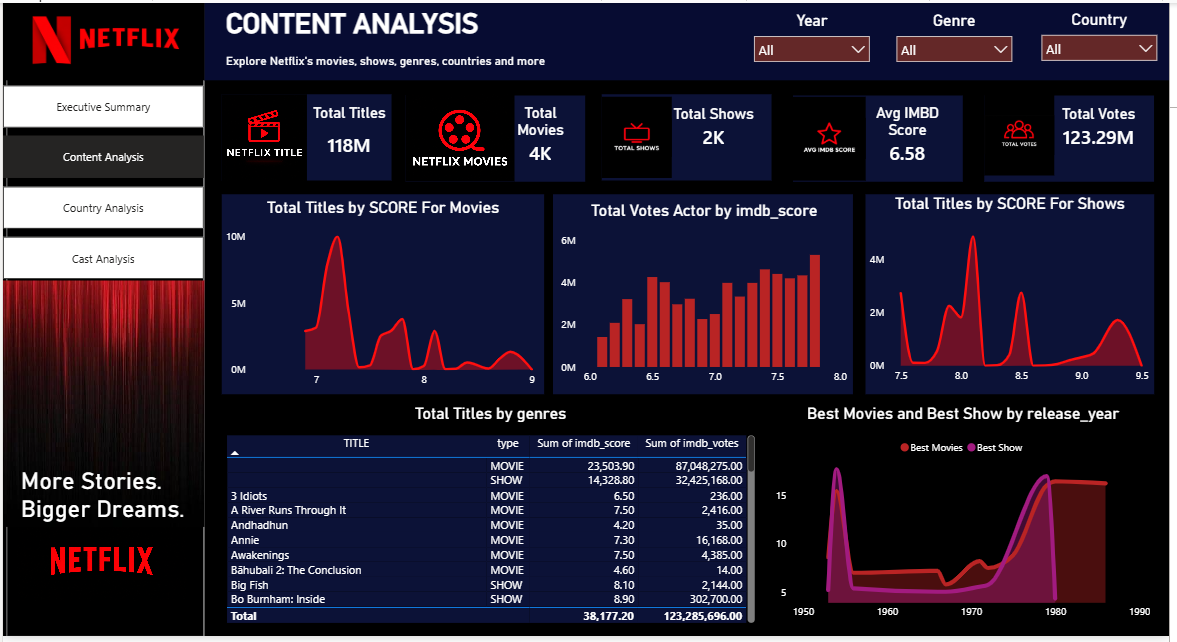

Layout of this report page (visuals, bound fields, positions):
{"tool":"powerbi","page":{"name":"Content Analysis","canvas":[1412,767],"ordinal":1},"visuals":[{"type":"shape","box":[4.5,0,239.2,767.5],"z":0},{"type":"shape","box":[243.7,0,1168.6,93.9],"z":1000},{"type":"textbox","box":[264.9,0,354.2,56],"z":2000},{"type":"textbox","box":[264.9,56,596.4,54.5],"z":3000},{"type":"pageNavigator","box":[0,93.9,243.7,242.2],"z":4000},{"type":"image","box":[0,0,243.7,93.9],"z":5000},{"type":"image","box":[16.7,634.3,205.9,89.3],"z":6000},{"type":"image","box":[0,336,243.7,298.2],"z":7000},{"type":"textbox","box":[16.7,557.1,216.5,210.4],"z":8000},{"type":"shape","box":[264.9,110.5,205.9,104.4],"z":9000},{"type":"shape","box":[725.1,110.5,205.9,104.4],"z":10000},{"type":"shape","box":[487.4,112,218,104.4],"z":11000},{"type":"shape","box":[956.7,112,205.9,104.4],"z":12000},{"type":"shape","box":[1188.3,112,205.9,104.4],"z":13000},{"type":"shape","box":[264.9,231.6,390.5,242.2],"z":14000},{"type":"shape","box":[666,231.6,363.3,242.2],"z":15000},{"type":"shape","box":[1044.5,231.6,349.7,242.2],"z":16000},{"type":"cardVisual","title":"Total Titles","fields":{"Data":["Best Movie by Year Netflix.Total Titles"]},"box":[367.8,122.6,102.9,78.7],"z":17000},{"type":"image","box":[264.9,110.5,102.9,106],"z":18000},{"type":"cardVisual","title":"Total Movies","fields":{"Data":["Best Movie by Year Netflix.Total Movies"]},"box":[596.4,122.6,109,78.7],"z":19000},{"type":"cardVisual","title":"Total Shows","fields":{"Data":["Best Movie by Year Netflix.Total Shows"]},"box":[793.2,124.1,134.7,56],"z":20000},{"type":"cardVisual","title":"Avg IMBD Score","fields":{"Data":["Best Movie by Year Netflix.Average IMDb Score"]},"box":[1027.8,122.6,134.7,78.7],"z":21000},{"type":"cardVisual","title":"Total Votes","fields":{"Data":["Best Movie by Year Netflix.Total Votes"]},"box":[1259.4,124.1,134.7,56],"z":22000},{"type":"image","box":[487.4,110.5,131.7,106],"z":23000},{"type":"image","box":[725.1,113.5,84.8,98.4],"z":24000},{"type":"image","box":[956.7,113.5,87.8,101.4],"z":25000},{"type":"lineChart","title":"Total Titles by SCORE For Movies","fields":{"Category":["Best Movies Netflix.SCORE"],"Y":["Best Movie by Year Netflix.Total Titles"]},"box":[264.9,236.1,390.5,237.7],"z":26000},{"type":"columnChart","fields":{"Category":["raw_titles.imdb_score"],"Y":["Best Movie by Year Netflix.Total Titles"]},"box":[670.6,240.7,357.2,230.1],"z":27000},{"type":"tableEx","title":"Total Titles by genres","fields":{"Values":["Best Movie by Year Netflix.TITLE","raw_titles.type","Sum(raw_titles.imdb_score)","Sum(raw_titles.imdb_votes)"]},"box":[264.9,485.9,650.9,269.4],"z":28000},{"type":"slicer","title":"Year","fields":{"Values":["Best Movie by Year Netflix.RELEASE_YEAR"]},"box":[899.2,10.6,160.5,74.2],"z":29000},{"type":"slicer","title":"Genre","fields":{"Values":["raw_titles.genres.2"]},"box":[1071.7,10.6,160.5,74.2],"z":30000},{"type":"slicer","title":"Country","fields":{"Values":["Best Movie by Year Netflix.MAIN_PRODUCTION"]},"box":[1247.3,9.1,160.5,74.2],"z":31000},{"type":"lineChart","fields":{"Category":["raw_titles.release_year"],"Y":["Sum(Best Movie by Year Netflix.SCORE)"],"Y2":["Sum(Best Show by Year Netflix.SCORE)"]},"box":[930.9,485.9,463.2,269.4],"z":32000},{"type":"lineChart","title":"Total Titles by SCORE For Shows","fields":{"Category":["Best Shows Netflix.SCORE"],"Y":["Best Movie by Year Netflix.Total Titles"]},"box":[1044.5,231.6,349.7,237.7],"z":33000},{"type":"image","box":[1188.3,110.5,84.8,98.4],"z":34000},{"type":"pageNavigator","box":[0,99.9,243.7,236.1],"z":35000}]}

Visuals, with their boxes in screenshot pixels (x1, y1, x2, y2), scaled from the page's 1412x767 canvas onto the 1177x642 screenshot:
shape: (x1=4, y1=0, x2=203, y2=641)
shape: (x1=203, y1=0, x2=1176, y2=79)
textbox: (x1=221, y1=0, x2=516, y2=47)
textbox: (x1=221, y1=47, x2=718, y2=92)
pageNavigator: (x1=0, y1=79, x2=203, y2=281)
image: (x1=0, y1=0, x2=203, y2=79)
image: (x1=14, y1=531, x2=186, y2=606)
image: (x1=0, y1=281, x2=203, y2=531)
textbox: (x1=14, y1=466, x2=194, y2=641)
shape: (x1=221, y1=92, x2=392, y2=180)
shape: (x1=604, y1=92, x2=776, y2=180)
shape: (x1=406, y1=94, x2=588, y2=181)
shape: (x1=797, y1=94, x2=969, y2=181)
shape: (x1=991, y1=94, x2=1162, y2=181)
shape: (x1=221, y1=194, x2=546, y2=397)
shape: (x1=555, y1=194, x2=858, y2=397)
shape: (x1=871, y1=194, x2=1162, y2=397)
"Total Titles" cardVisual: (x1=307, y1=103, x2=392, y2=168)
image: (x1=221, y1=92, x2=307, y2=181)
"Total Movies" cardVisual: (x1=497, y1=103, x2=588, y2=168)
"Total Shows" cardVisual: (x1=661, y1=104, x2=773, y2=151)
"Avg IMBD Score" cardVisual: (x1=857, y1=103, x2=969, y2=168)
"Total Votes" cardVisual: (x1=1050, y1=104, x2=1162, y2=151)
image: (x1=406, y1=92, x2=516, y2=181)
image: (x1=604, y1=95, x2=675, y2=177)
image: (x1=797, y1=95, x2=871, y2=180)
"Total Titles by SCORE For Movies" lineChart: (x1=221, y1=198, x2=546, y2=397)
columnChart - raw_titles.imdb_score x Best Movie by Year Netflix.Total Titles: (x1=559, y1=201, x2=857, y2=394)
"Total Titles by genres" tableEx: (x1=221, y1=407, x2=763, y2=632)
"Year" slicer: (x1=750, y1=9, x2=883, y2=71)
"Genre" slicer: (x1=893, y1=9, x2=1027, y2=71)
"Country" slicer: (x1=1040, y1=8, x2=1173, y2=70)
lineChart - raw_titles.release_year x Sum(Best Movie by Year Netflix.SCORE): (x1=776, y1=407, x2=1162, y2=632)
"Total Titles by SCORE For Shows" lineChart: (x1=871, y1=194, x2=1162, y2=393)
image: (x1=991, y1=92, x2=1061, y2=175)
pageNavigator: (x1=0, y1=84, x2=203, y2=281)
